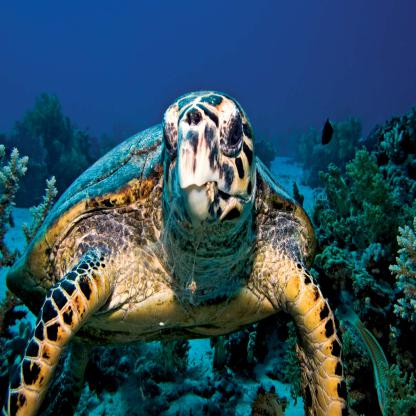turtle: (160, 85, 260, 250)
